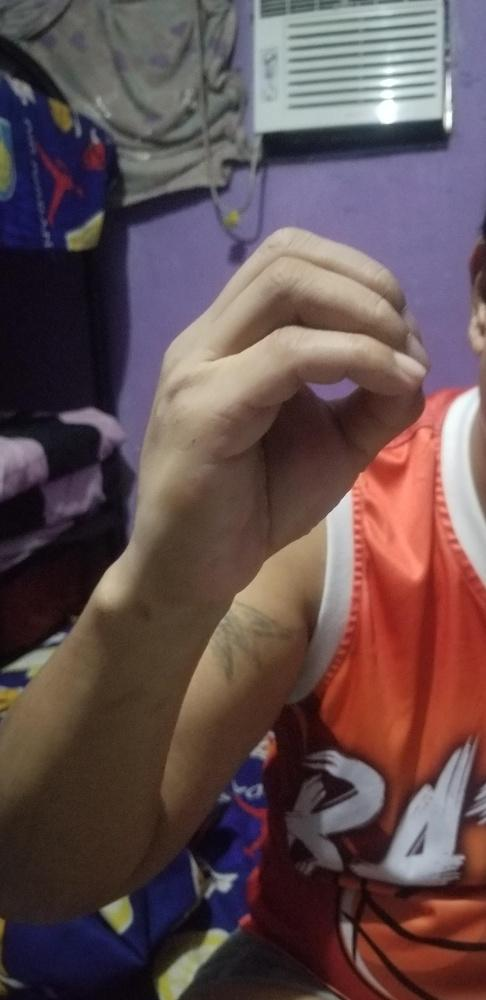o: (138, 224, 430, 584)
